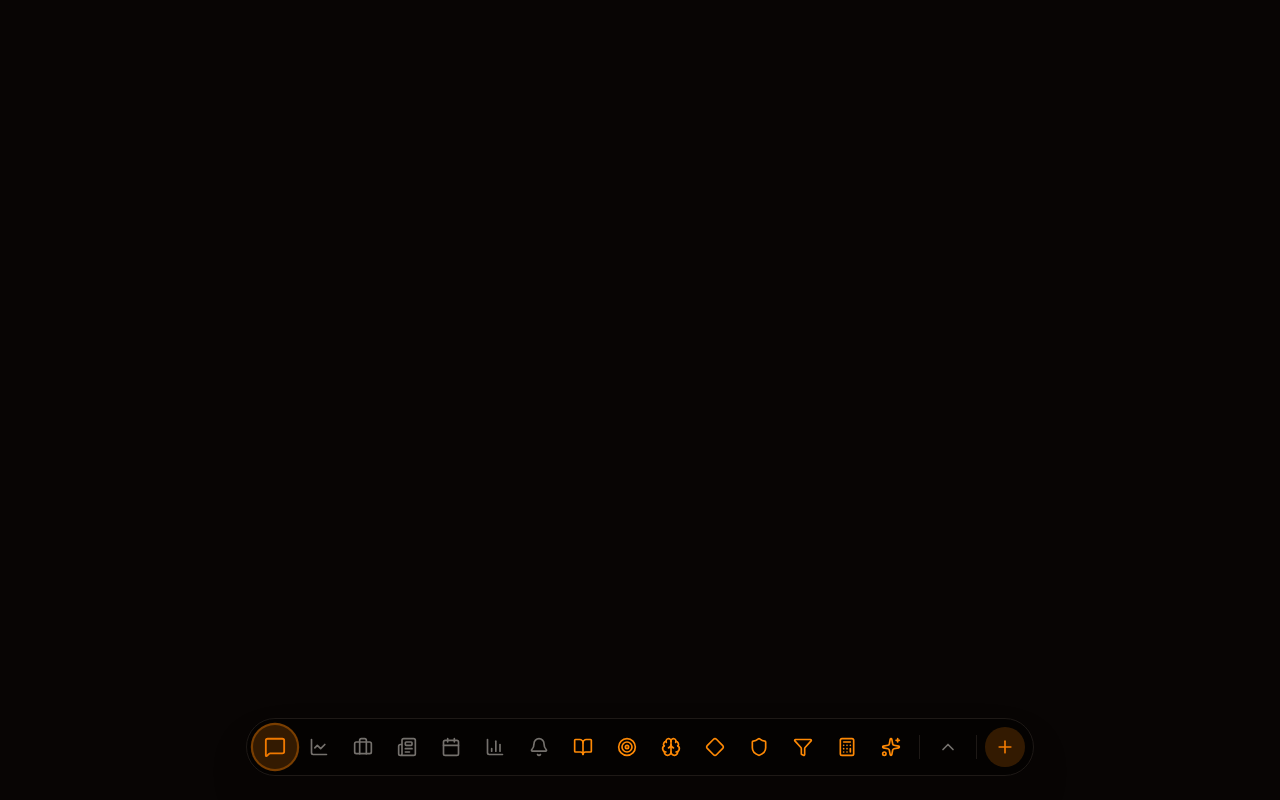
Test: SwipeableToolbar › Expanded State › should expand when expand button is clicked
Step 1. Click the button named "Expand all tools" → (948, 747), box [928,727,968,767]
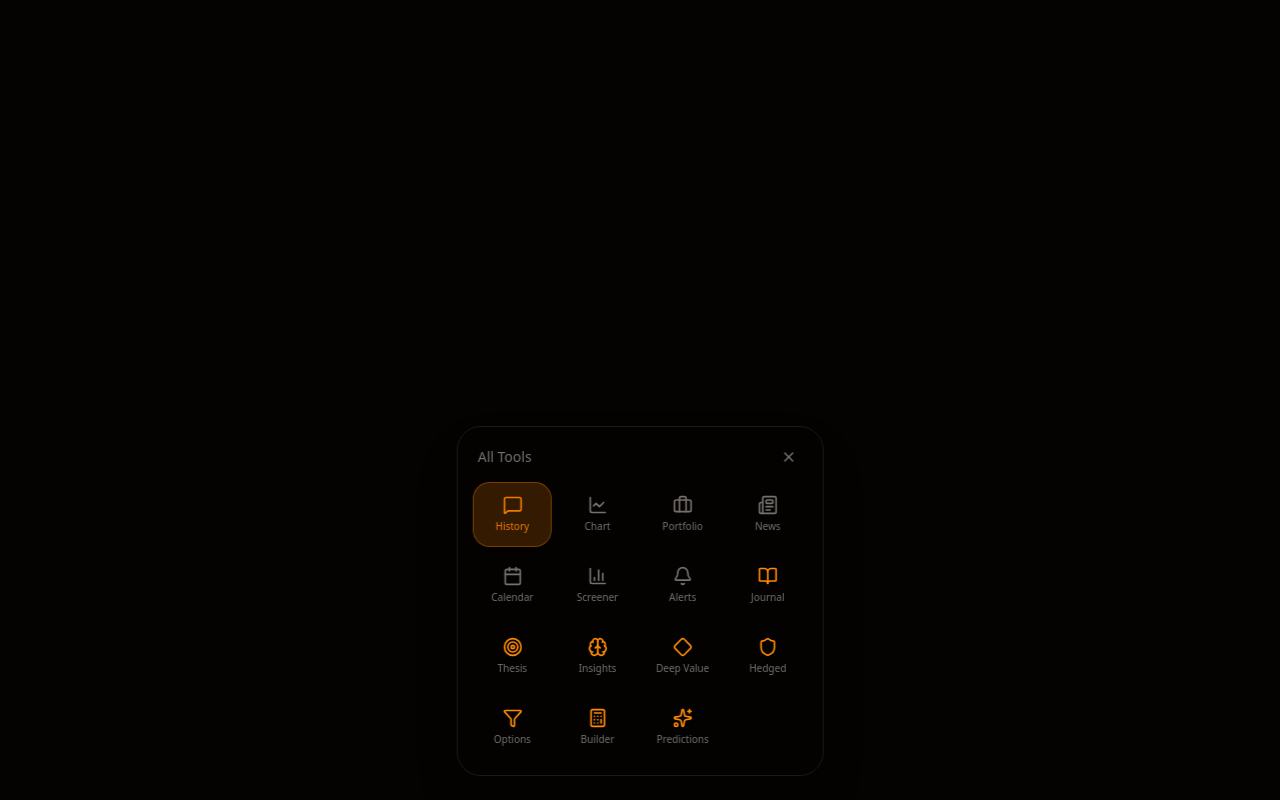
Check: the text "All Tools" is shown, box [478,447,532,467]
